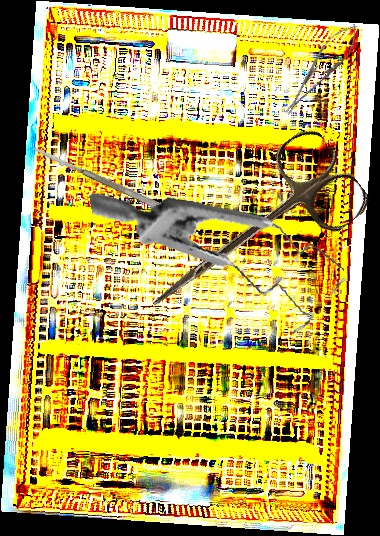Iris Scissors: (125, 122, 375, 349)
Needle Holder: (276, 16, 366, 122)
Spatula Surgical: (31, 143, 194, 226)
Speculum: (88, 152, 354, 365)
